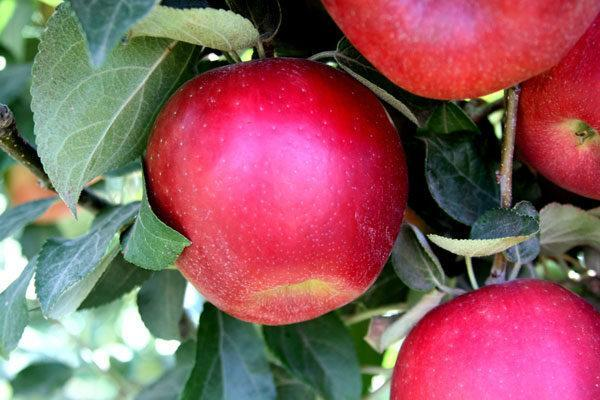apple: (147, 53, 410, 329), (321, 1, 595, 98), (388, 279, 600, 399), (515, 18, 600, 200)
